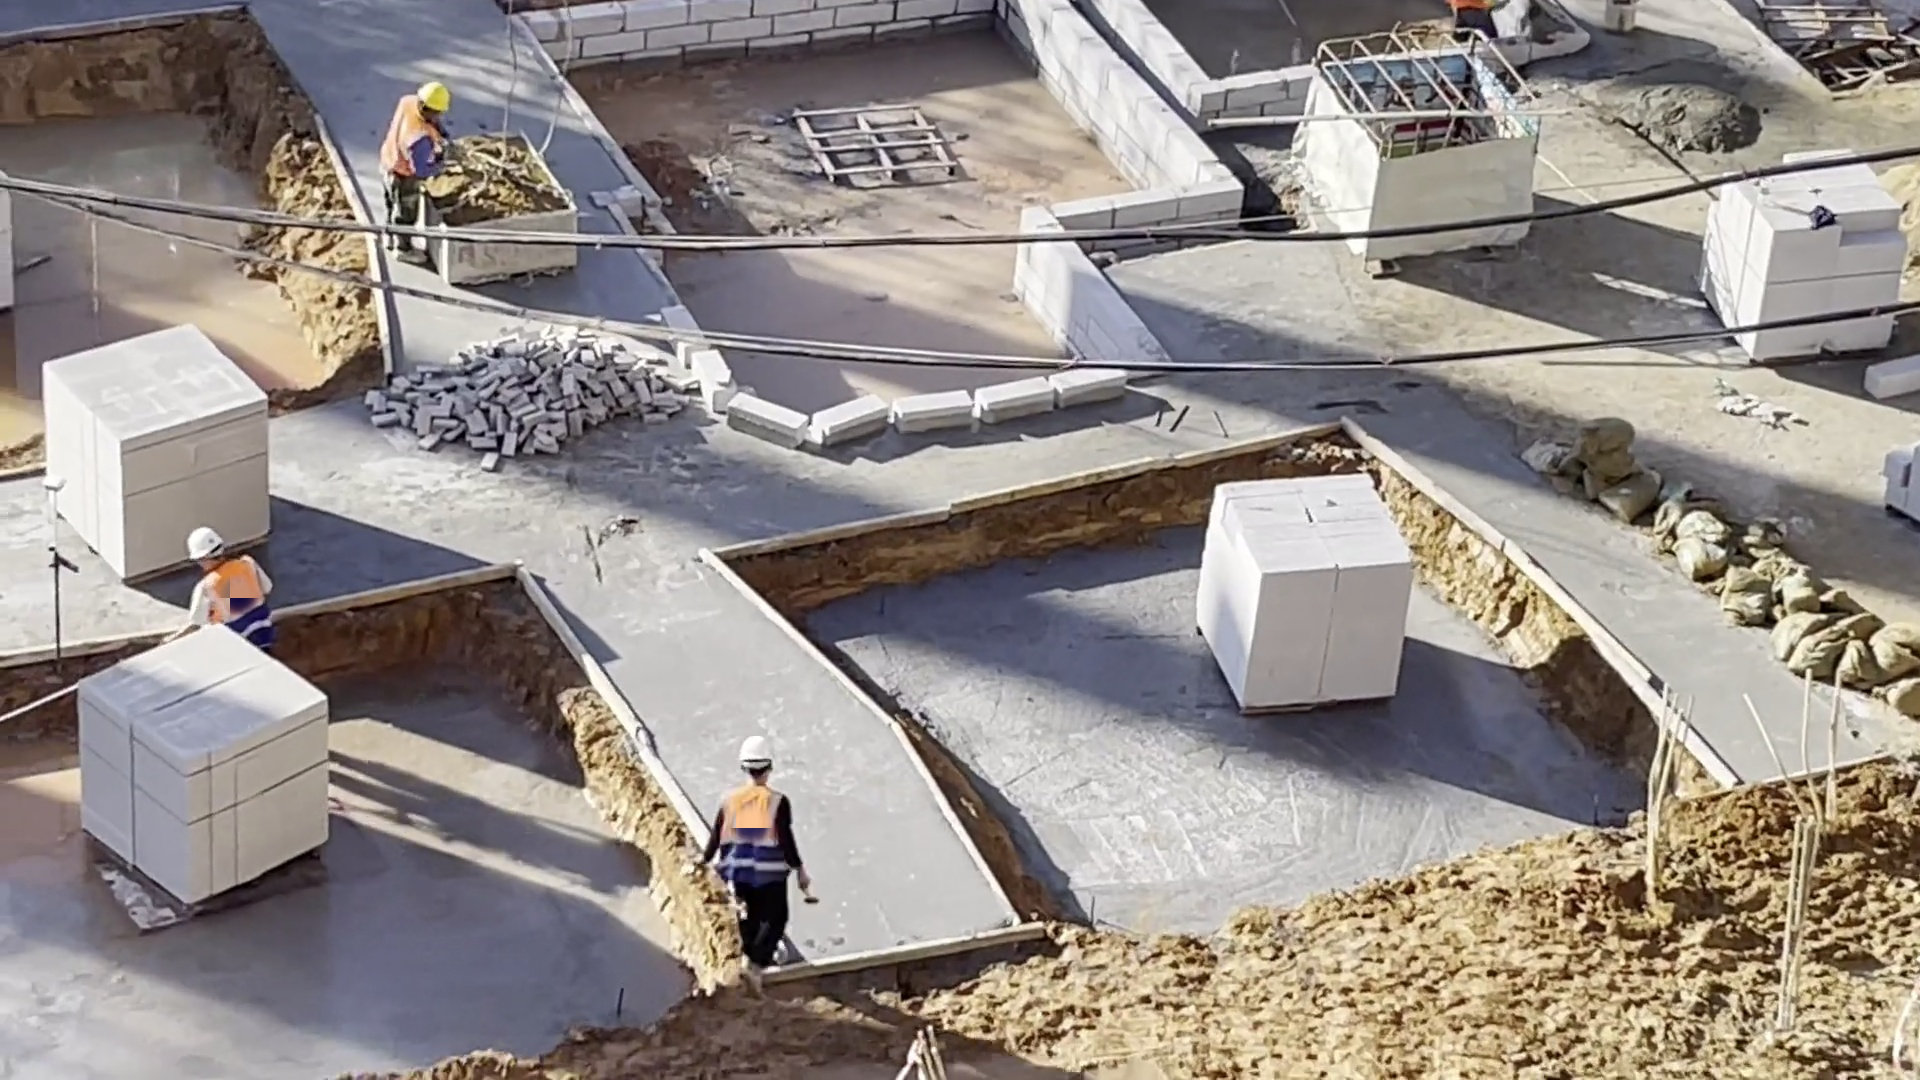helmet: (412, 75, 459, 117), (730, 735, 775, 776), (178, 527, 232, 561)
person: (685, 735, 823, 964), (371, 74, 464, 217), (164, 527, 286, 626)
vest: (711, 788, 794, 891), (380, 95, 444, 183), (200, 563, 276, 626)
